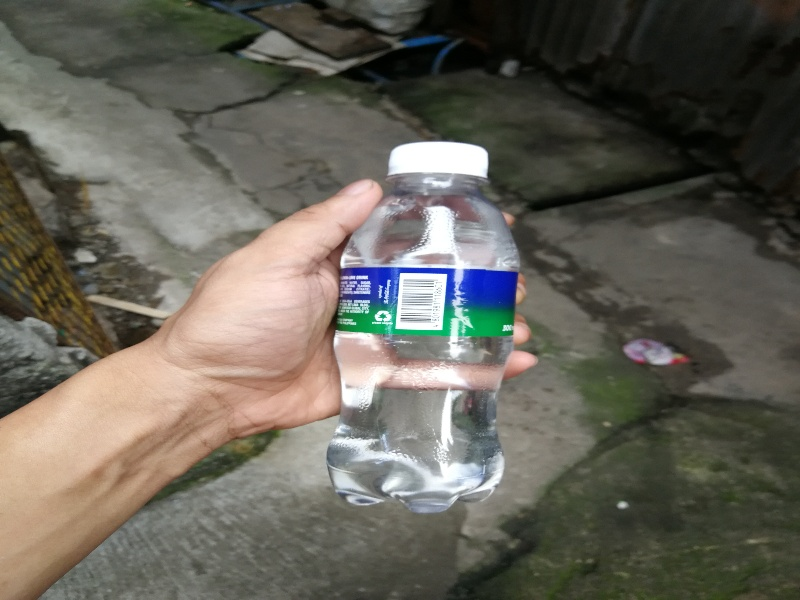PET #1: (323, 135, 524, 518)
